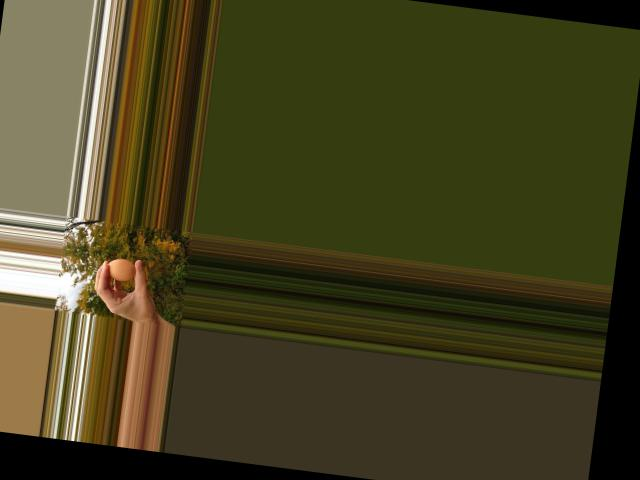egg: (105, 257, 137, 282)
